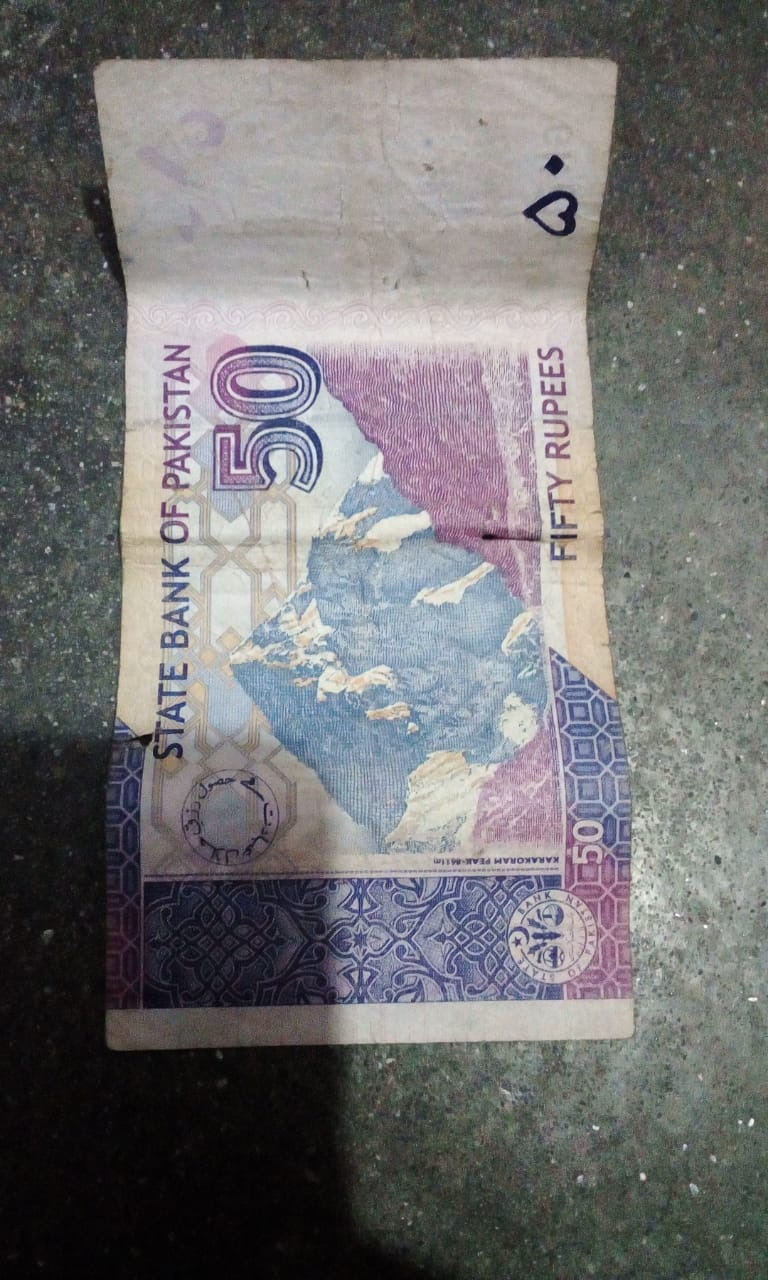50 rupee: (44, 22, 708, 1100)
